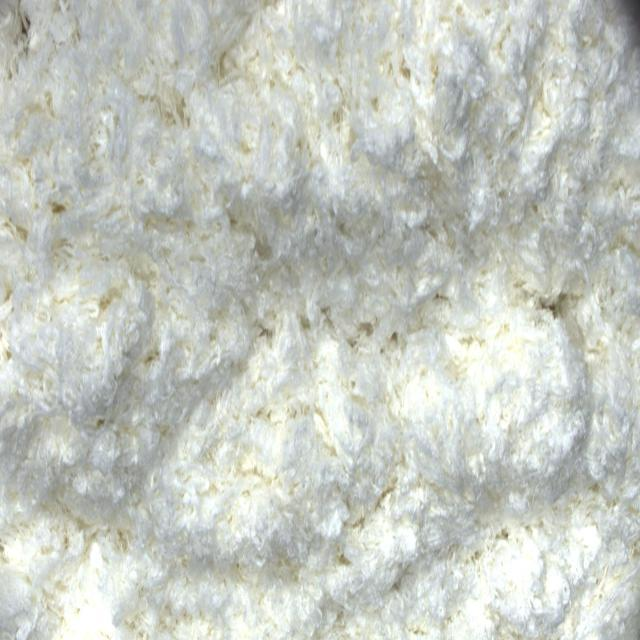dust: (539, 295, 569, 321)
